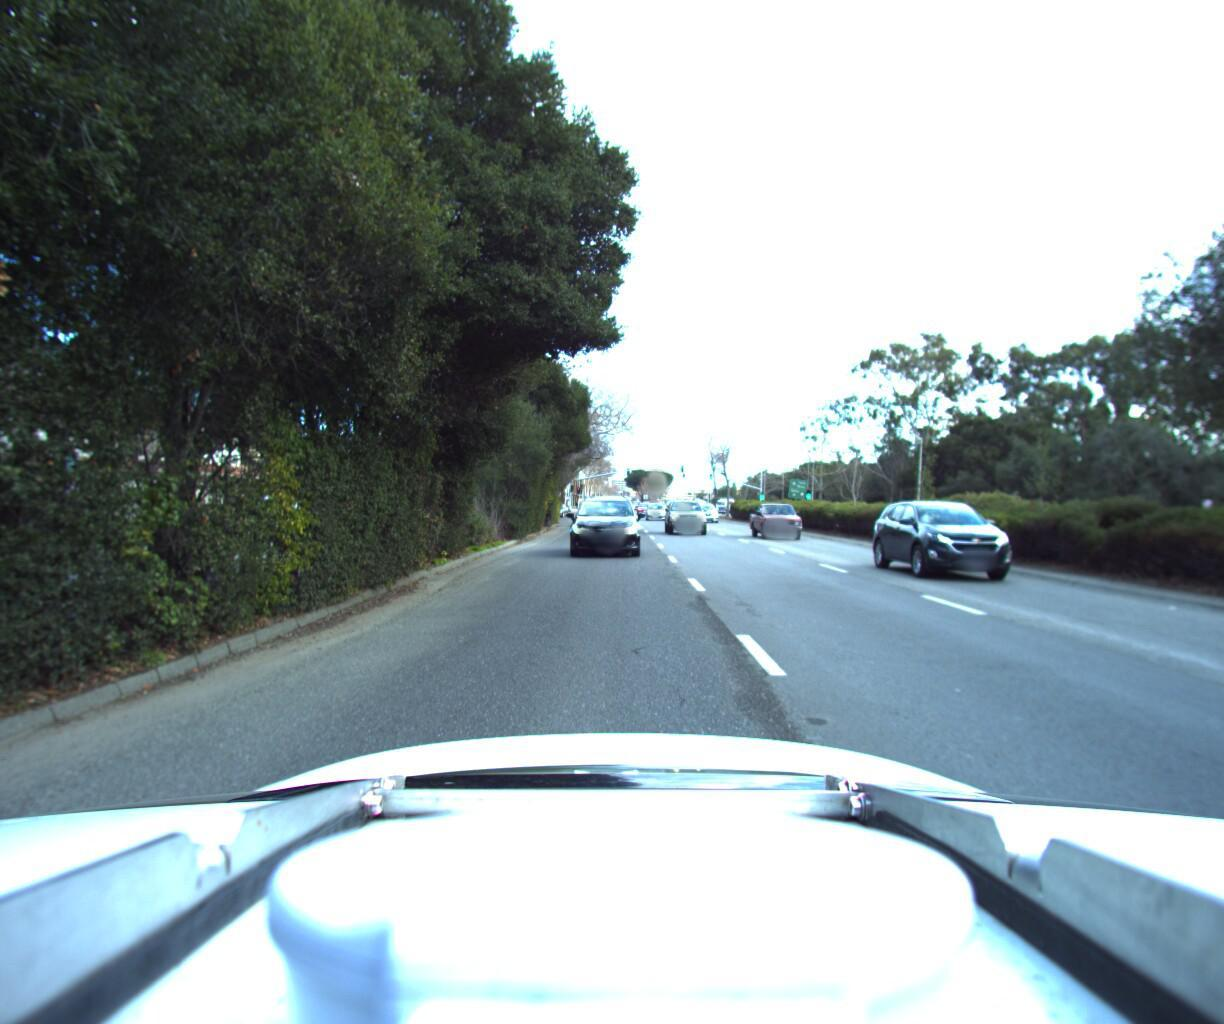car: (879, 496, 1059, 590), (564, 487, 639, 557), (749, 496, 815, 538), (663, 492, 709, 533), (694, 497, 723, 519), (642, 497, 669, 517)
